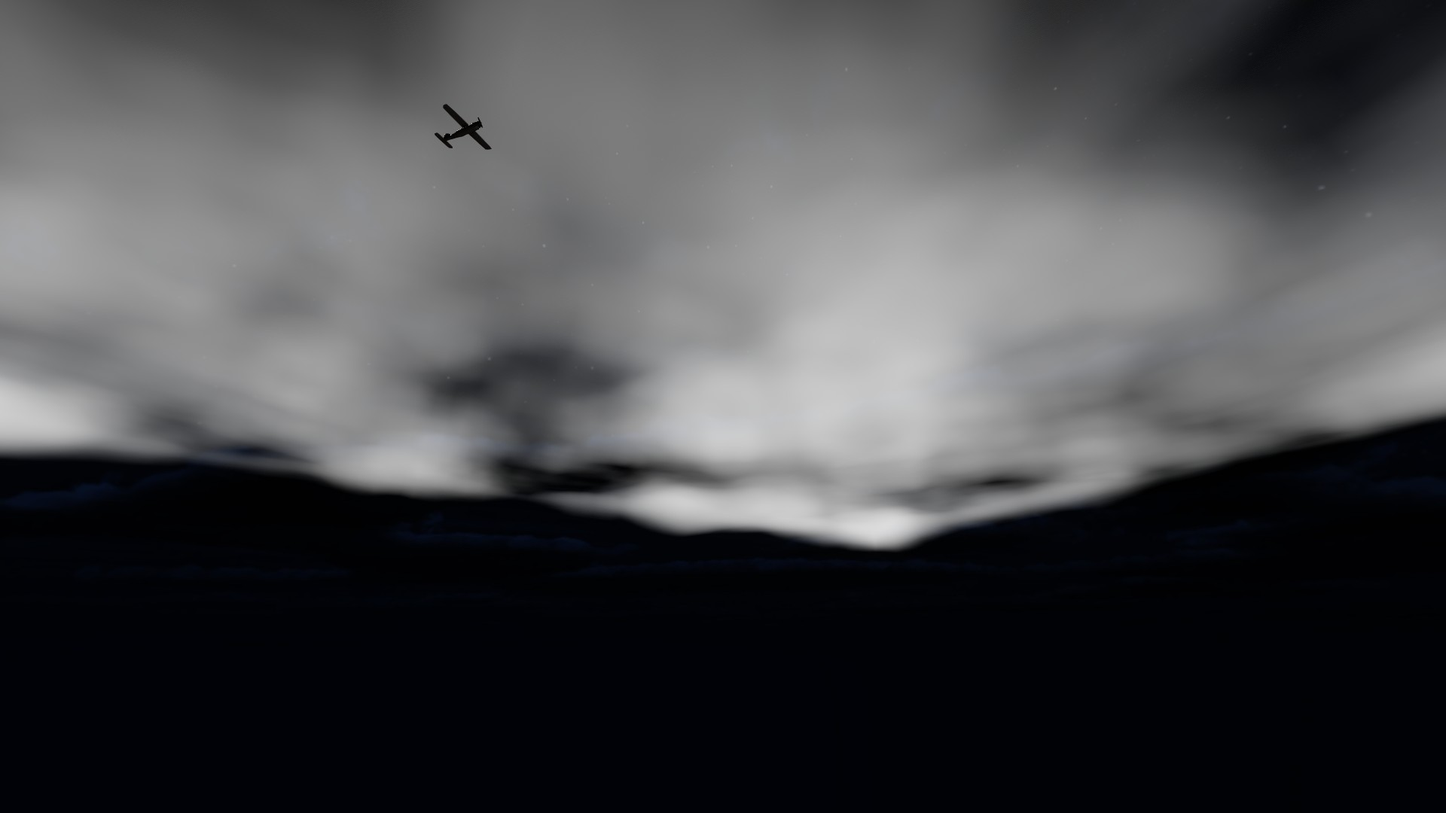drone_other: (434, 104, 491, 150)
